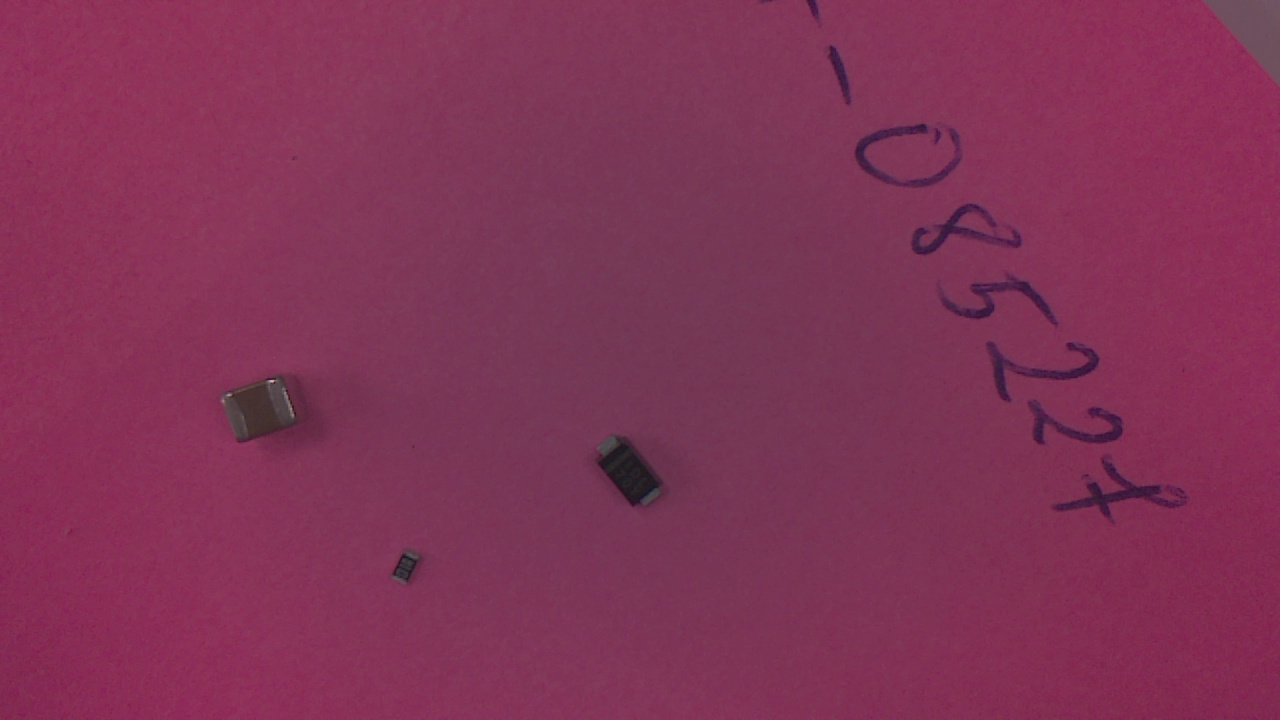Condensator: (227, 377, 309, 455)
Diode: (594, 441, 675, 516)
Resistor: (392, 550, 433, 588)
